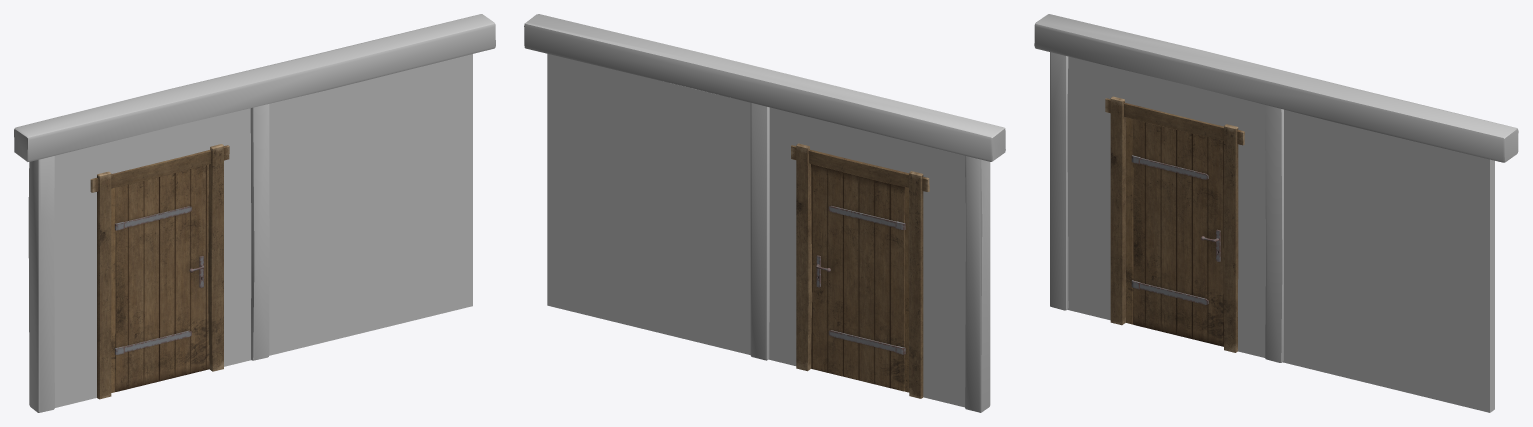
The model's file is SM_WallElement_07_LOD_01.FBX.
The picture shows the model from 3 angles, left to right: view 1: azimuth 30°, elevation 25°; view 2: azimuth 150°, elevation 25°; view 3: azimuth 330°, elevation 25°; orthographic projection.
Parts seen in each view (by area): view 1: SM_WallElement_07_LOD_01, SM_Door_01_LOD_01; view 2: SM_WallElement_07_LOD_01, SM_Door_01_LOD_01; view 3: SM_WallElement_07_LOD_01, SM_Door_01_LOD_01.
Part boxes in pixels (bbox=[...]): SM_WallElement_07_LOD_01: bbox=[14, 14, 495, 412]; SM_Door_01_LOD_01: bbox=[115, 164, 209, 391]; SM_WallElement_07_LOD_01: bbox=[524, 14, 1005, 412]; SM_Door_01_LOD_01: bbox=[811, 164, 905, 391]; SM_WallElement_07_LOD_01: bbox=[1034, 14, 1518, 412]; SM_Door_01_LOD_01: bbox=[1131, 119, 1223, 346].
Bounding box in the file's own units: 5.46 × 3.16 × 0.3119.
